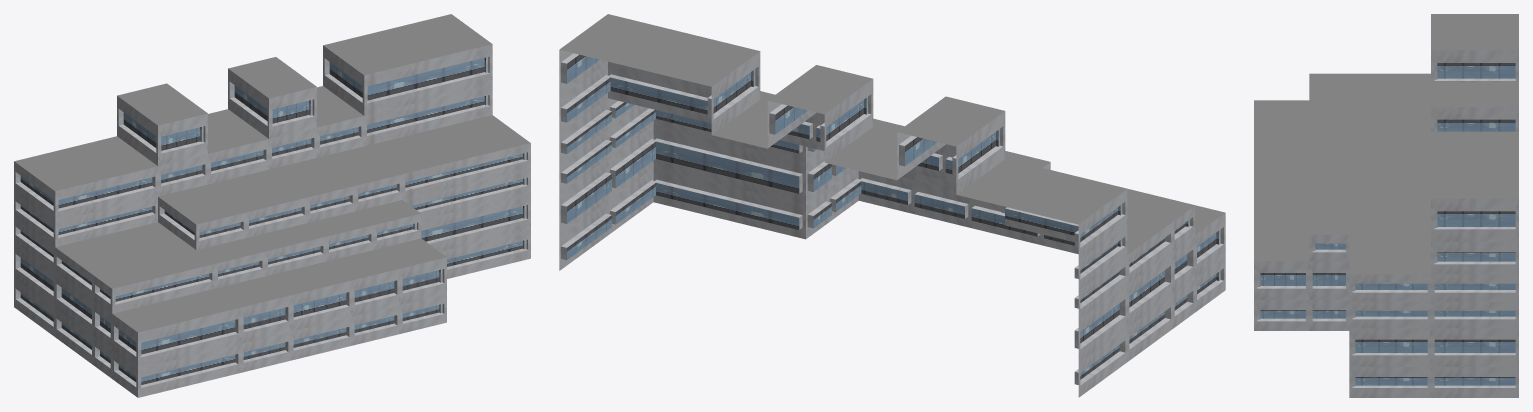
Rendered from Background_Asset_004.fbx.
3 renders of one model, left to right at view 1: azimuth 30°, elevation 25°; view 2: azimuth 150°, elevation 25°; view 3: azimuth 270°, elevation 25°, orthographic. The views are drawn at different scales.
Visible parts, largest first — view 1: Background_Asset_004; view 2: Background_Asset_004; view 3: Background_Asset_004.
Part boxes in pixels (x1=…): Background_Asset_004: x1=14, y1=14, x2=530, y2=397; Background_Asset_004: x1=559, y1=14, x2=1225, y2=397; Background_Asset_004: x1=1254, y1=14, x2=1518, y2=397.
Size of the model in its own units: 2030 by 827 by 996.
